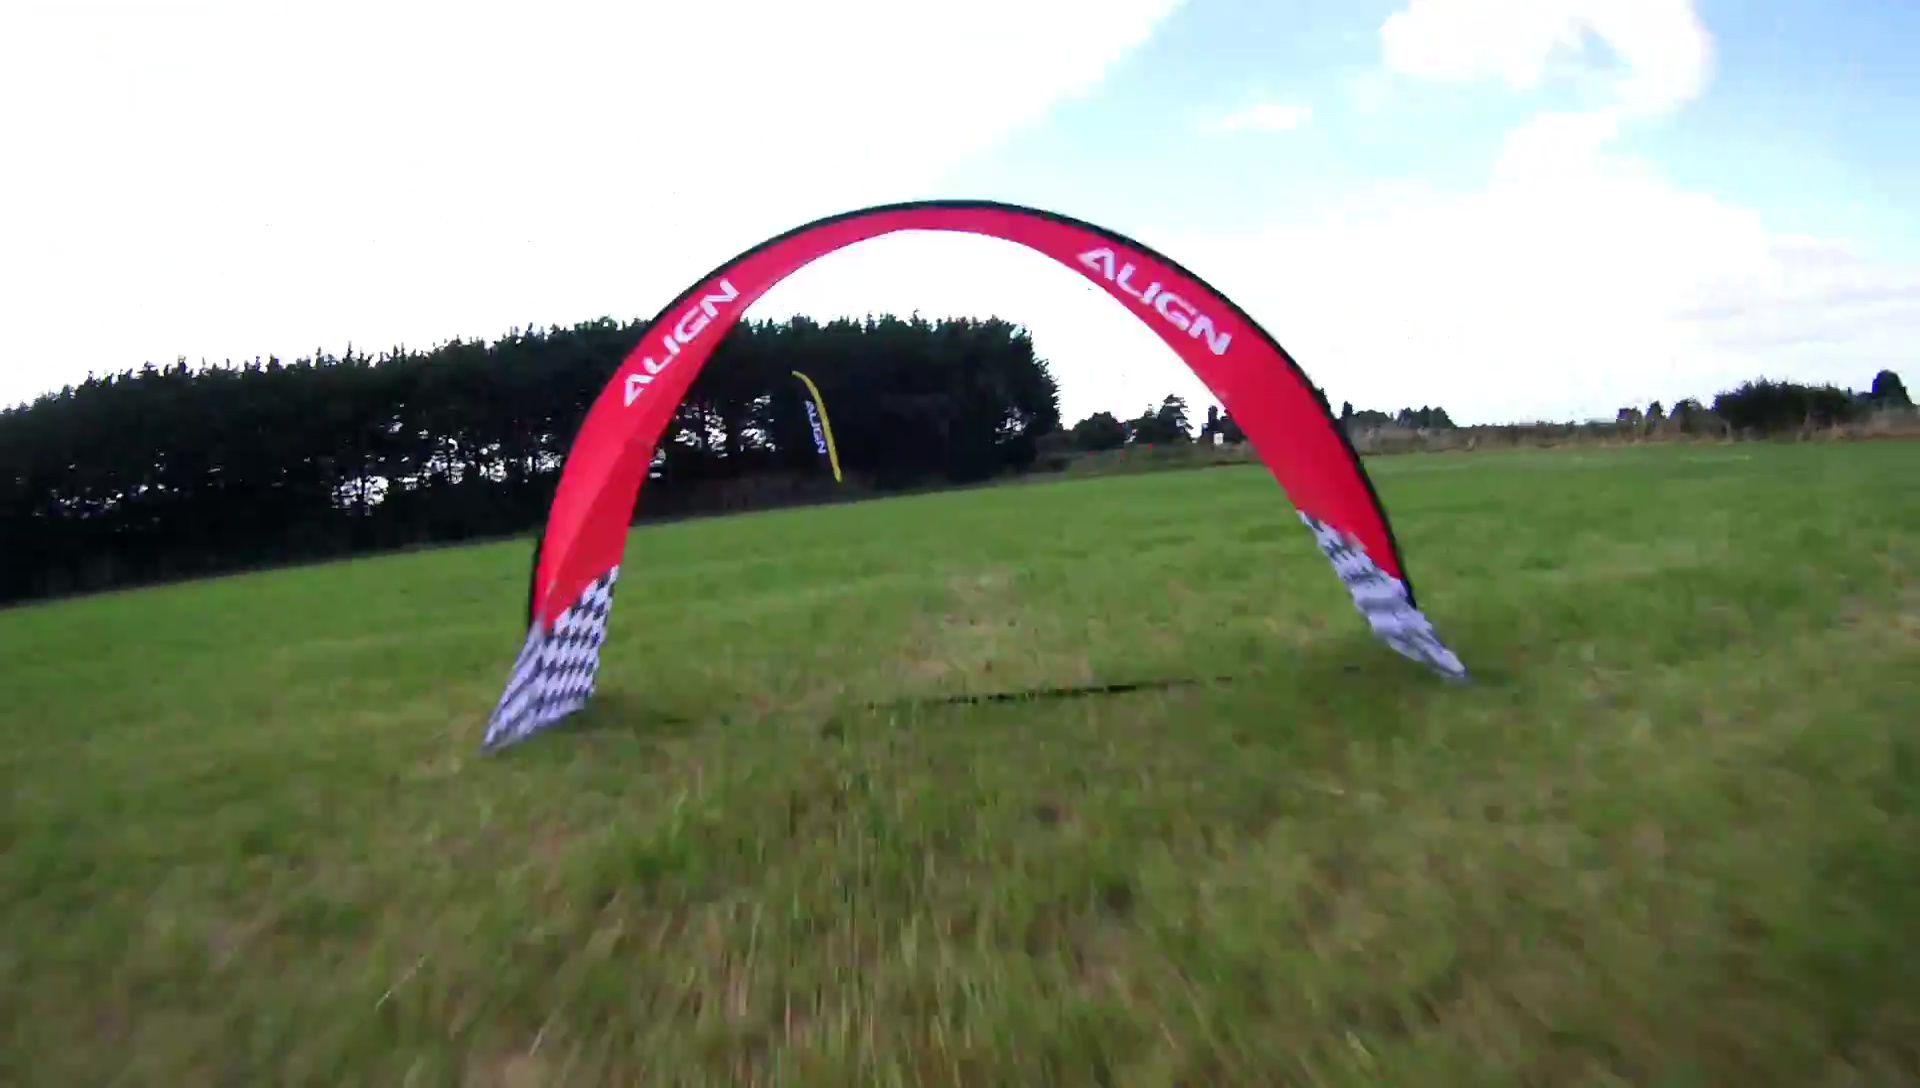gate: (481, 196, 1476, 752)
